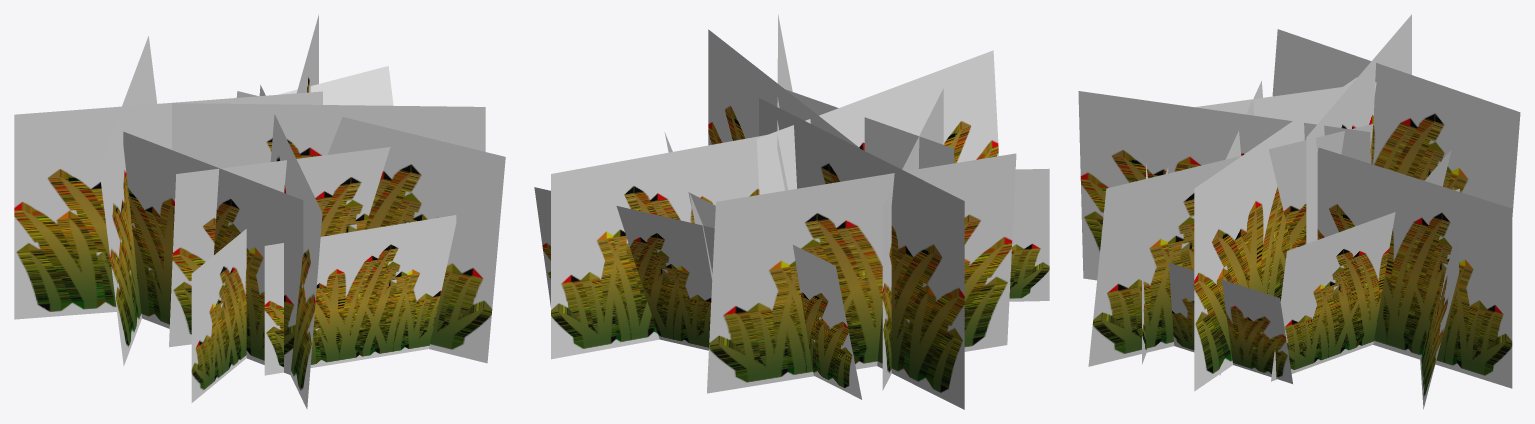
File: mid_grass_07.gltf
3 renders of one model, left to right at view 1: azimuth 30°, elevation 25°; view 2: azimuth 150°, elevation 25°; view 3: azimuth 270°, elevation 25°, orthographic. The views are drawn at different scales.
Visible parts, largest first — view 1: default; view 2: default; view 3: default.
Part boxes in pixels (box(x1,y1,x2,y2)): default: box(14, 14, 505, 409); default: box(534, 14, 1049, 409); default: box(1078, 14, 1520, 409).
Bounding box in the file's own units: 1.16 × 0.5771 × 1.13.
1 material, 1 textured.
